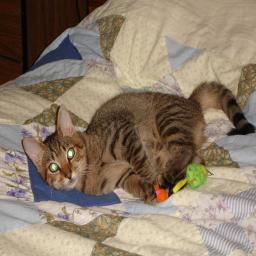catnose: (64, 171, 74, 182)
